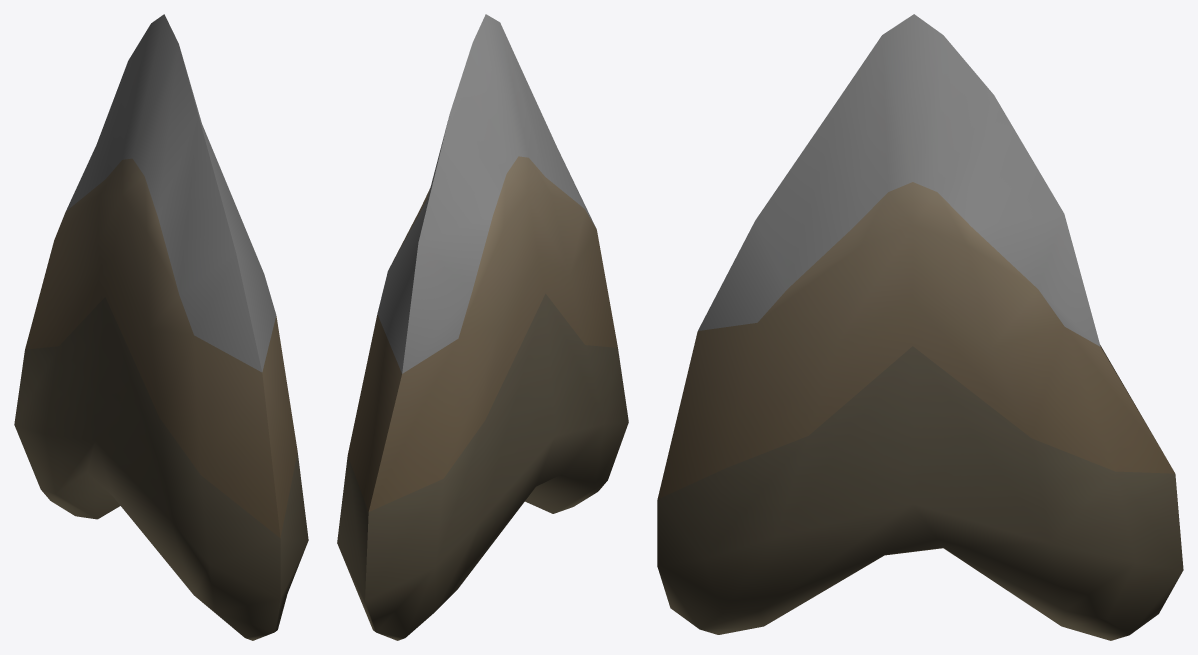
The model's file is OBJ_MegalodonTooth.fbx.
The picture shows the model from 3 angles, left to right: view 1: azimuth 30°, elevation 25°; view 2: azimuth 150°, elevation 25°; view 3: azimuth 270°, elevation 25°; orthographic projection. The views are drawn at different scales.
Visible parts, largest first — view 1: OBJ_MegalodonTooth; view 2: OBJ_MegalodonTooth; view 3: OBJ_MegalodonTooth.
Part boxes in pixels (x1=…): OBJ_MegalodonTooth: x1=14, y1=14, x2=308, y2=640; OBJ_MegalodonTooth: x1=337, y1=14, x2=628, y2=640; OBJ_MegalodonTooth: x1=657, y1=14, x2=1183, y2=640.
Size of the model in its own units: 14.68 by 57.24 by 43.53.
